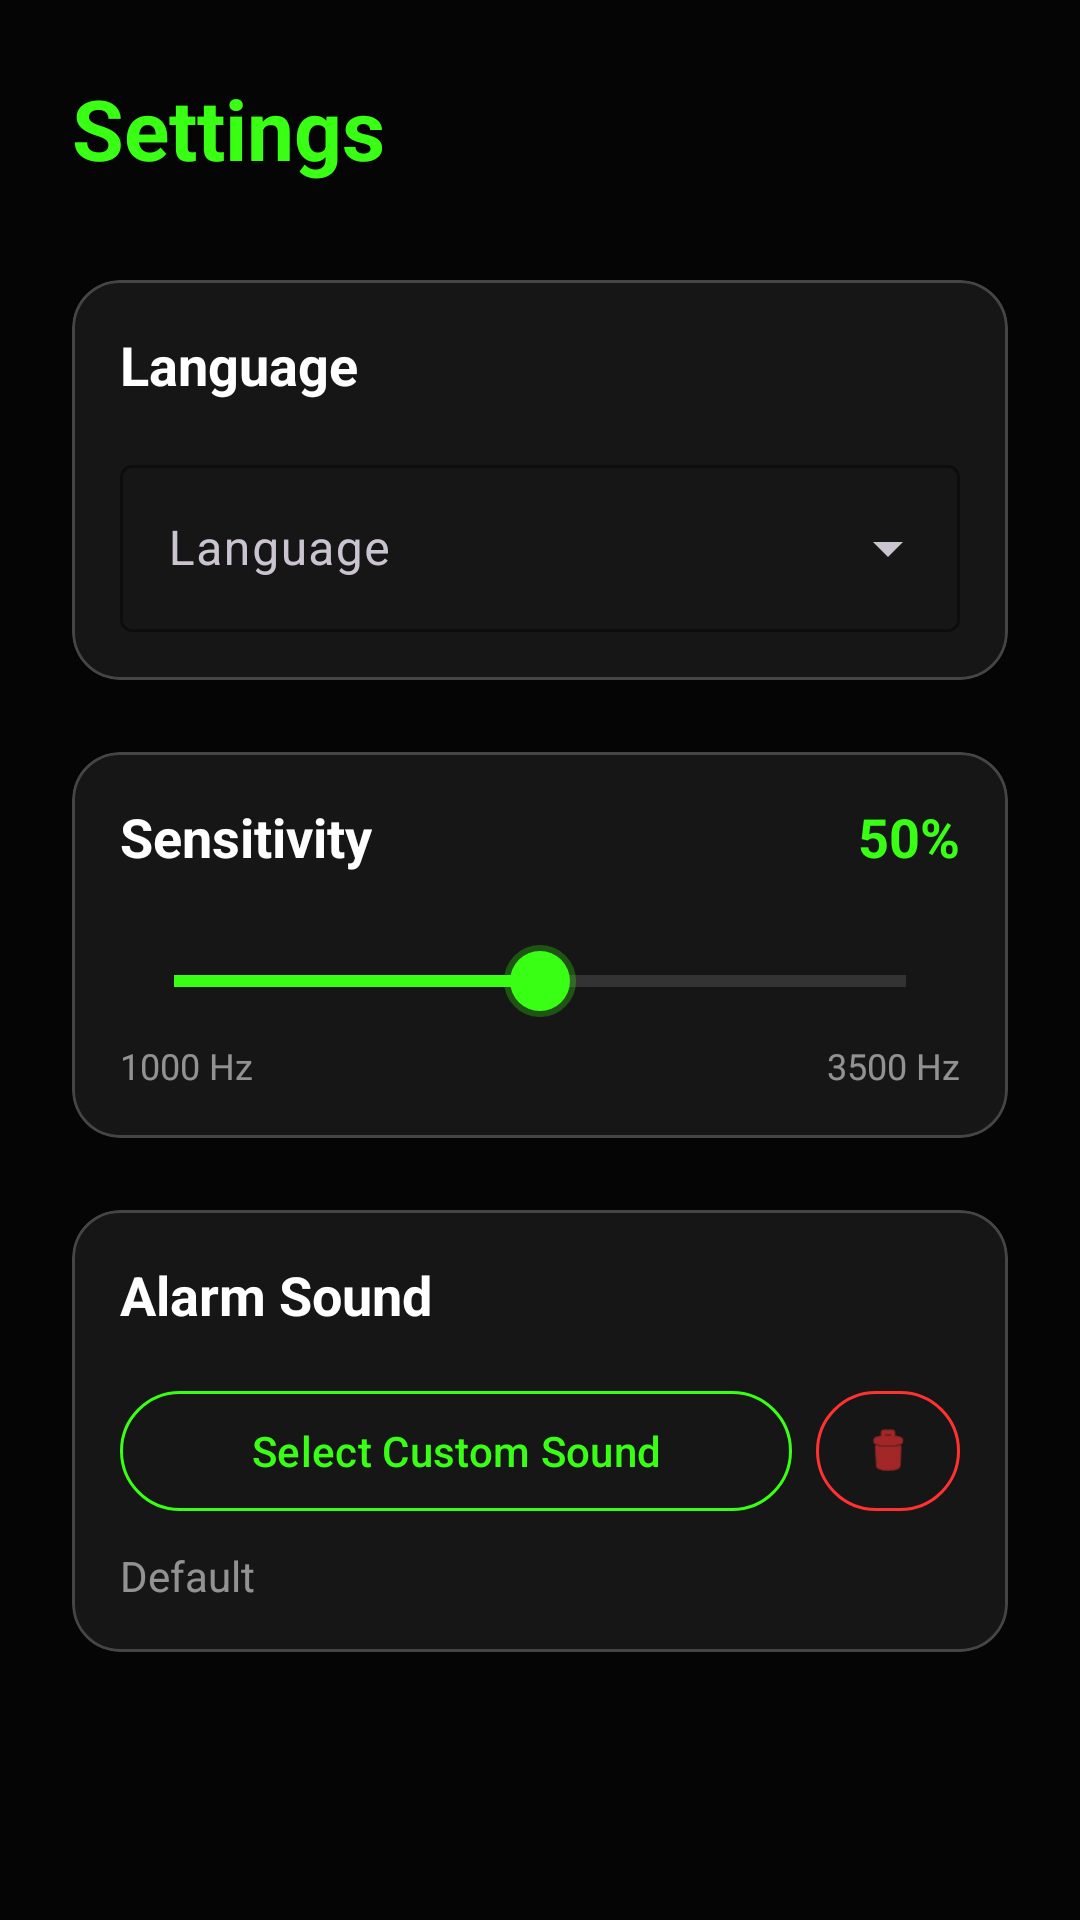

Locate icon controls on the screen. Image size 1080×1920, boxes as (x1, y1, x2, y2).
delete: (816, 1391, 960, 1511)
